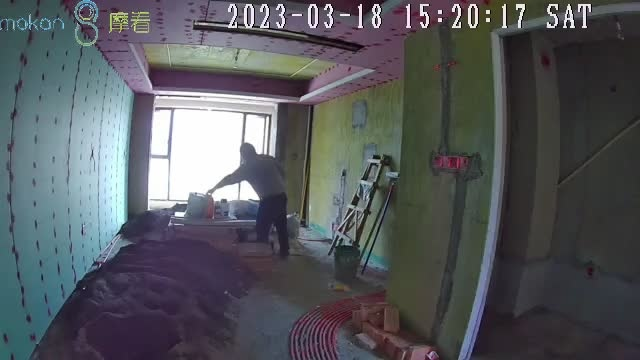people: (207, 142, 288, 259)
window: (151, 106, 268, 209)
